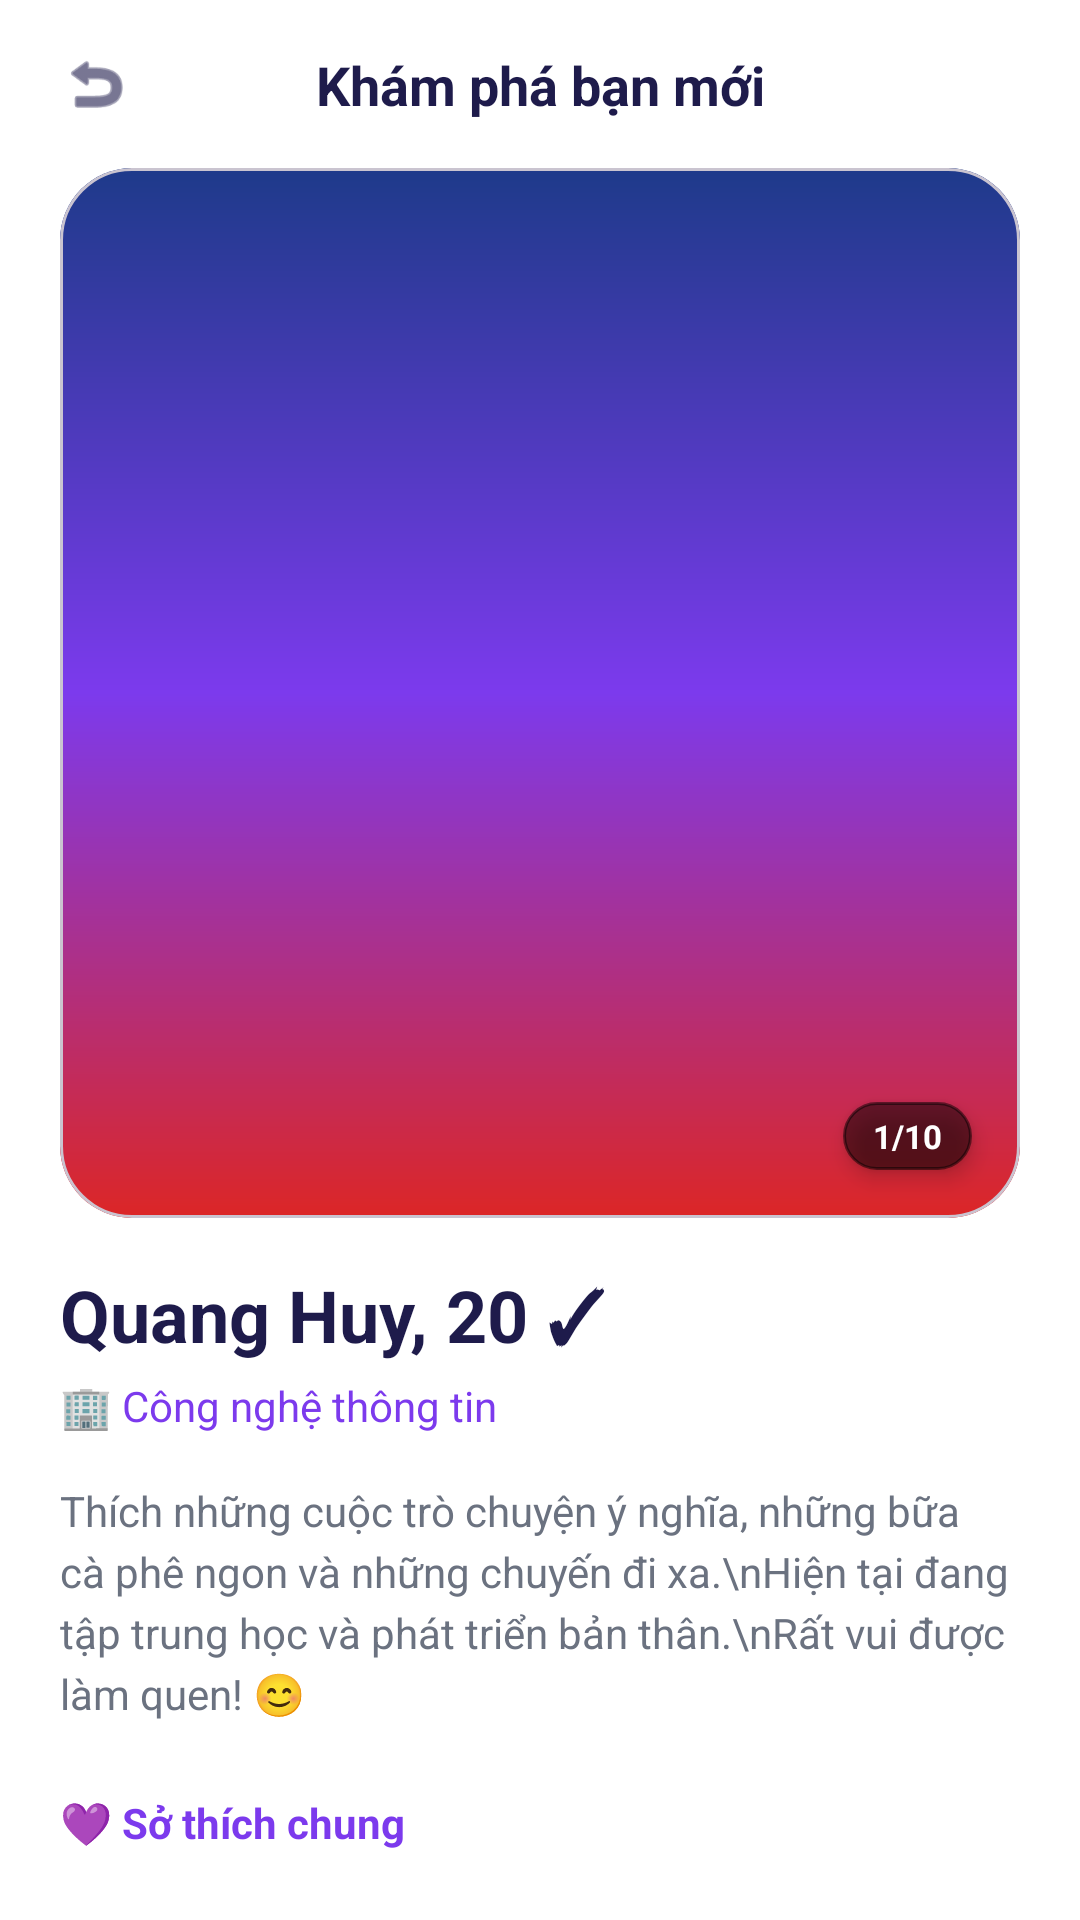

Locate icon controls on the screen. Image size 1080px x 1920px, boxes as region(x1, y1, x2, y2).
revert: region(71, 61, 123, 108)
